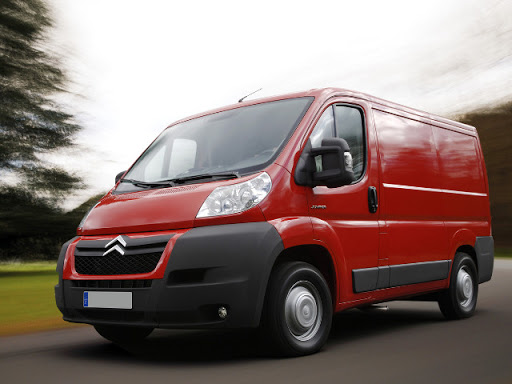van: (56, 86, 499, 356)
